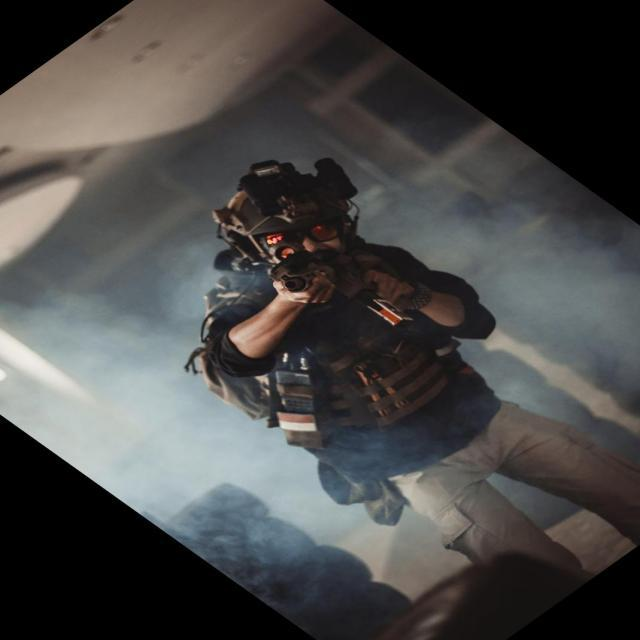weapon: (268, 240, 417, 328)
